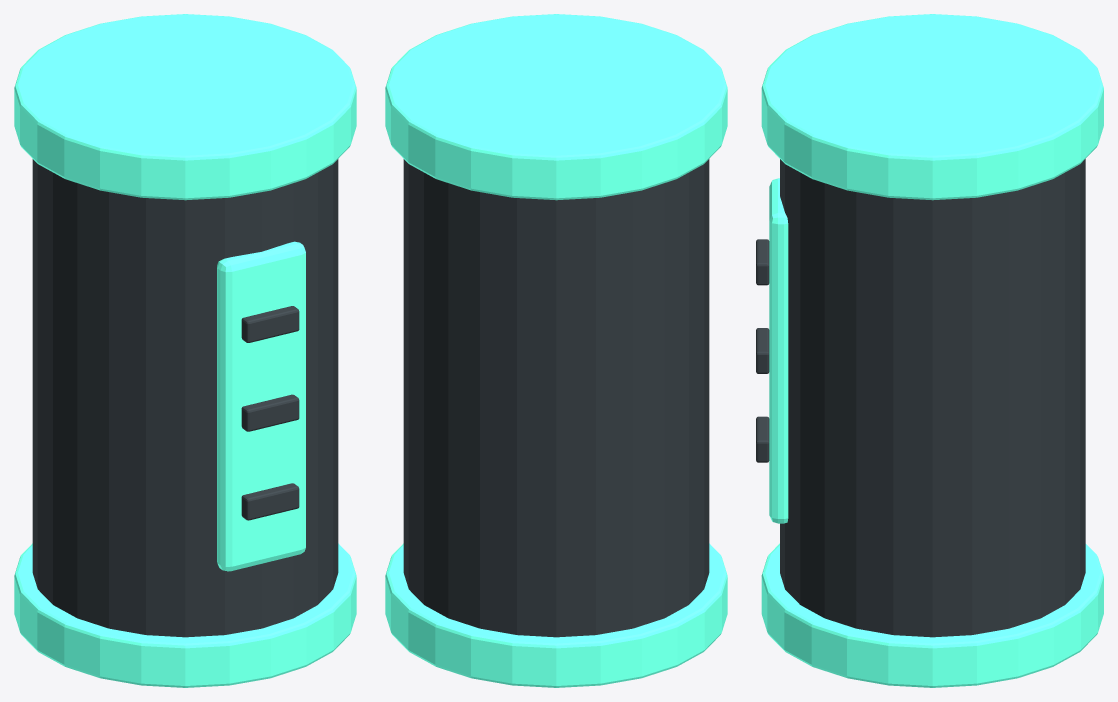
File: Artifact_Payload.glb
3 views of the same model, side by side, from view 1: azimuth 30°, elevation 25°; view 2: azimuth 150°, elevation 25°; view 3: azimuth 270°, elevation 25° (orthographic).
Parts seen in each view (by area): view 1: Artifact_Payload_Mesh; view 2: Artifact_Payload_Mesh; view 3: Artifact_Payload_Mesh.
Boxes of the visible parts, x1,y1,x2,y2 form: Artifact_Payload_Mesh: [14, 14, 356, 687]; Artifact_Payload_Mesh: [385, 14, 727, 687]; Artifact_Payload_Mesh: [756, 14, 1103, 687].
Bounding box in the file's own units: 0.28 × 0.48 × 0.2845.
